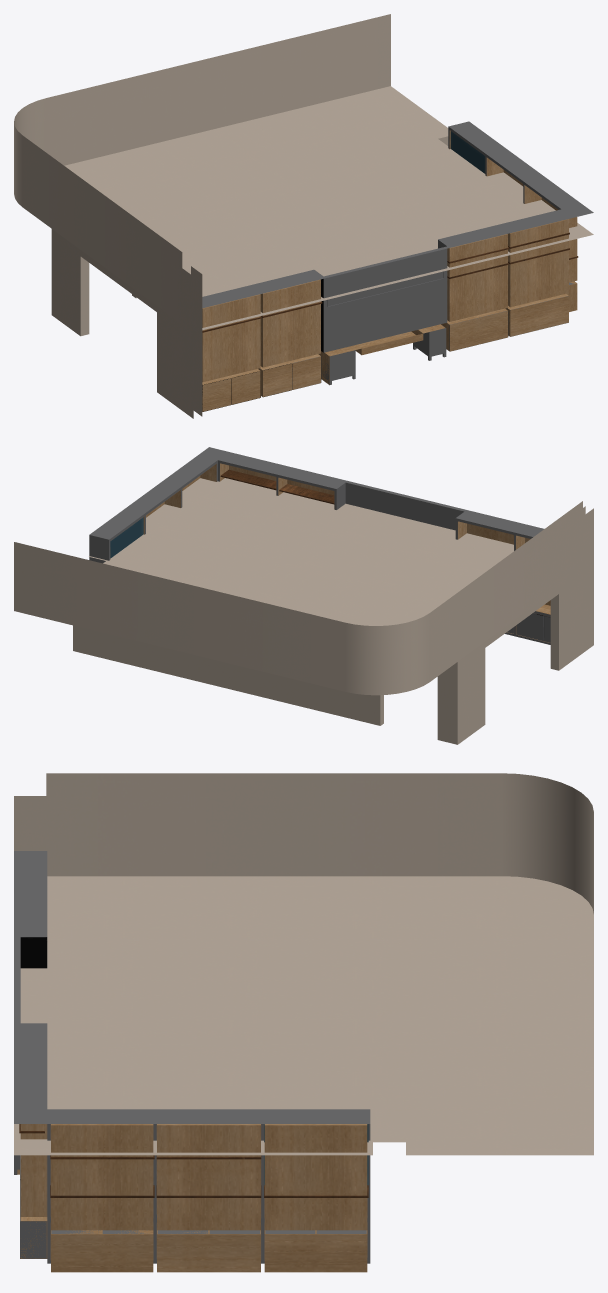
The model's file is Showroom_MTL2_ModShop.fbx.
3 renders of one model, top to bottom at view 1: azimuth 30°, elevation 25°; view 2: azimuth 150°, elevation 25°; view 3: azimuth 270°, elevation 25°, orthographic. The views are drawn at different scales.
Visible parts, largest first — view 1: Cube.067, Cube.082, Cube.008, Cube.065, Cube.103, Cube.104, Cube.102, Cube.099, Cube.007; view 2: Cube.067, Cube.082, Cube.006, Cube.008, Cube.065, Cube.099, Cube.102, Cube.095, Cube.007; view 3: Cube.067, Cube.082, Cube.008, Cube.098, Cube.089.
Part boxes in pixels (x1,y1,x2,y2): Cube.067: [14, 14, 593, 330]; Cube.082: [202, 121, 593, 411]; Cube.008: [157, 266, 202, 418]; Cube.065: [51, 229, 89, 336]; Cube.103: [322, 350, 355, 384]; Cube.104: [413, 324, 446, 360]; Cube.102: [450, 131, 485, 173]; Cube.099: [447, 232, 569, 278]; Cube.007: [80, 250, 156, 311]; Cube.067: [14, 478, 582, 695]; Cube.082: [89, 447, 550, 644]; Cube.006: [73, 625, 383, 725]; Cube.008: [550, 506, 593, 670]; Cube.065: [437, 642, 485, 744]; Cube.099: [220, 469, 334, 504]; Cube.102: [110, 517, 143, 558]; Cube.095: [516, 613, 543, 640]; Cube.007: [485, 588, 558, 647]; Cube.067: [14, 773, 593, 1155]; Cube.082: [14, 851, 370, 1272]; Cube.008: [14, 796, 46, 850]; Cube.098: [50, 1155, 261, 1197]; Cube.089: [20, 1200, 46, 1258].
Bounding box in the file's own units: 1932 × 731 × 1697.
